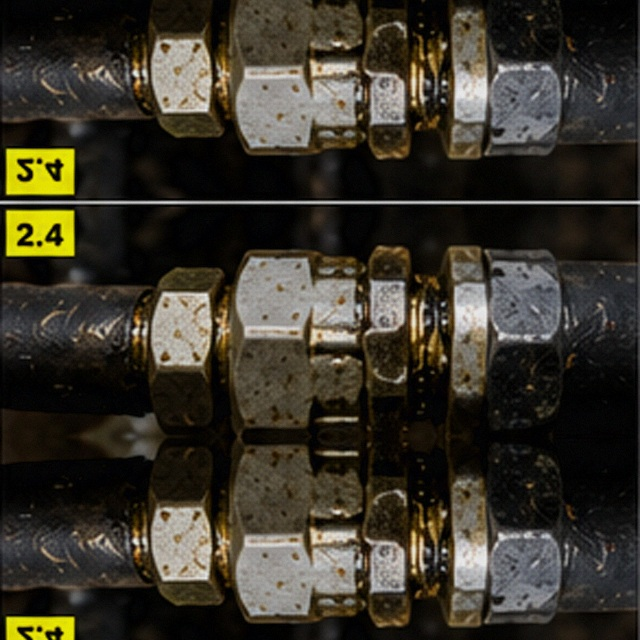hydraulic_oil_leak: (233, 195, 451, 413)
